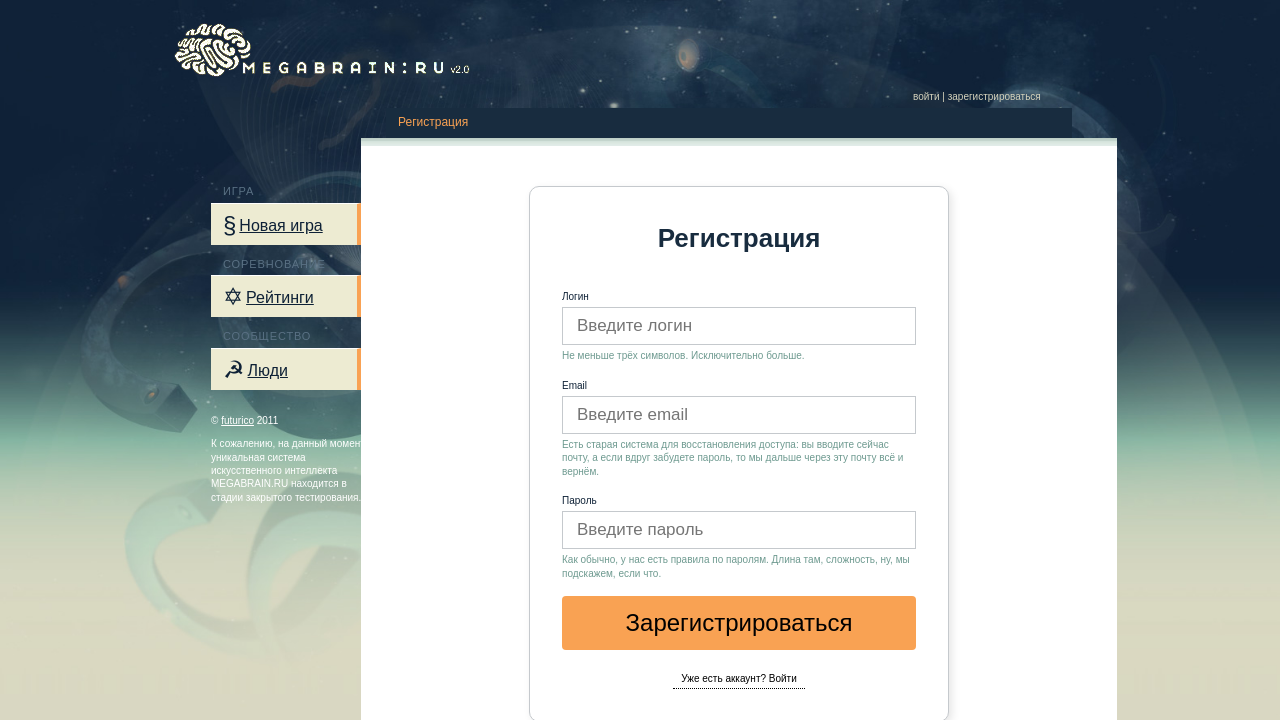
Test: Регистрация и авторизация › показывает ошибку при пустых полях
Click the button with test id "auth-submit" at {"x": 739, "y": 623}, box [562, 596, 916, 650]
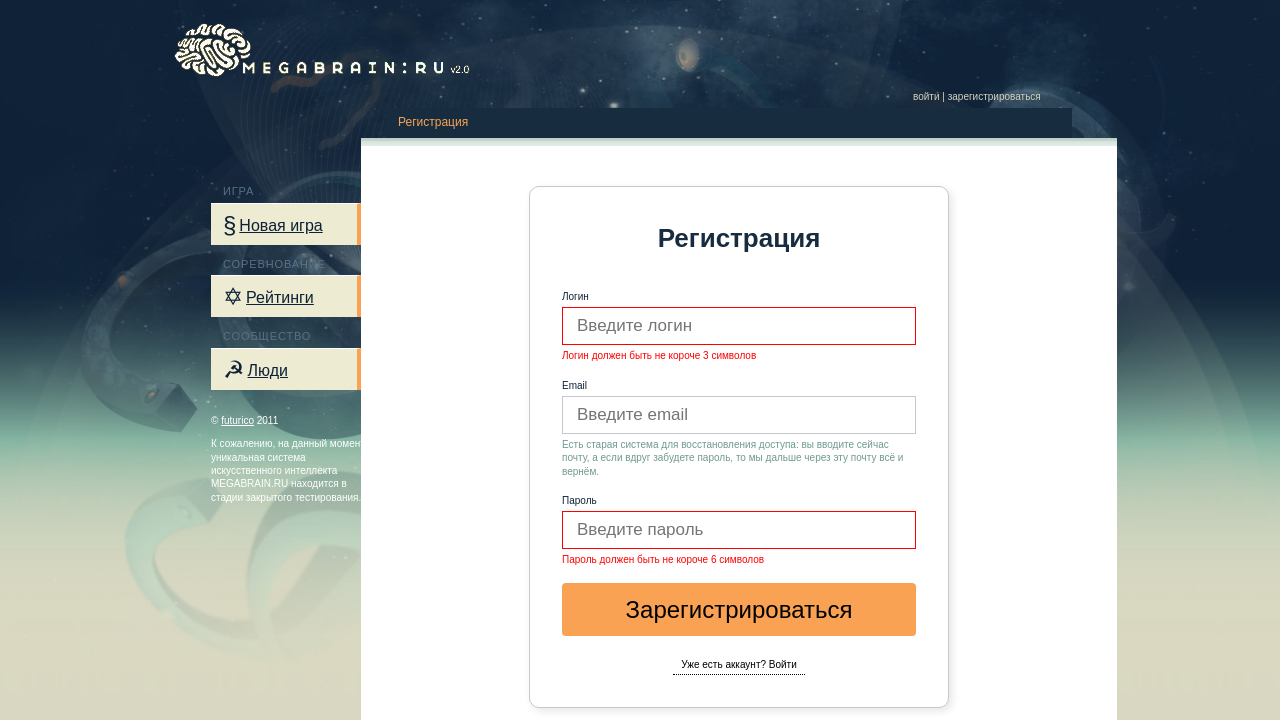
Result: the text "Логин должен быть не короче 3 символов" is shown at [562, 350, 756, 361]
